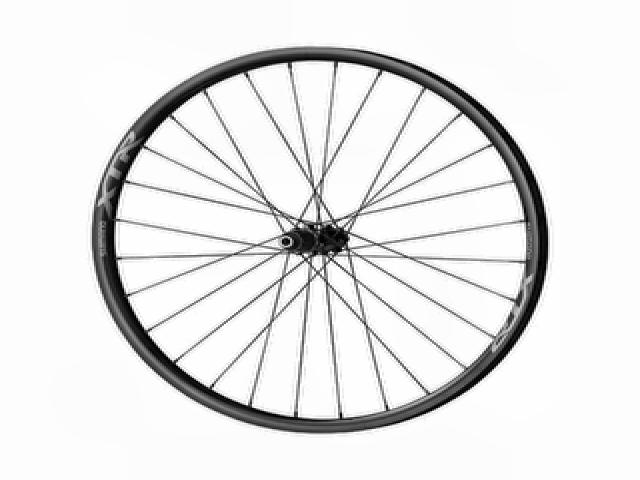wheel: (82, 46, 552, 436)
